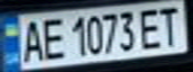0: (84, 11, 106, 56)
1: (66, 12, 87, 57)
3: (115, 7, 139, 53)
7: (100, 9, 121, 54)
A: (15, 16, 45, 64)
E: (36, 15, 66, 61), (136, 6, 166, 51)
T: (154, 2, 187, 47)
